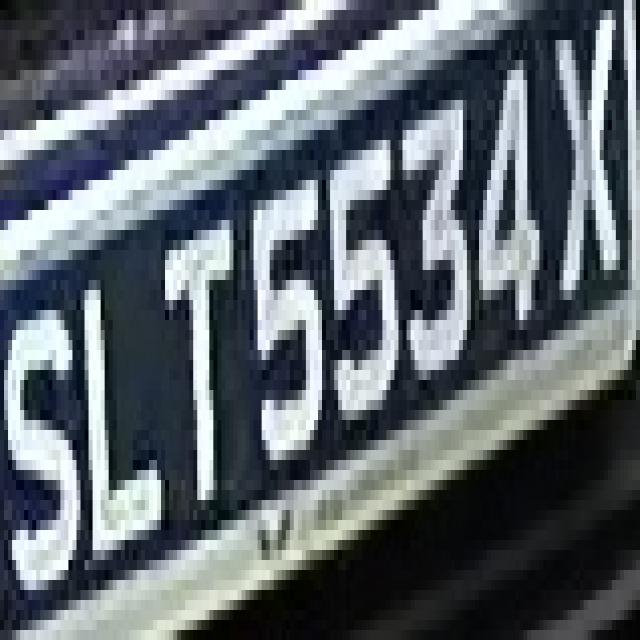3: (386, 80, 483, 410)
4: (459, 60, 547, 320)
5: (314, 120, 398, 440), (233, 160, 322, 460)
L: (76, 230, 161, 590)
S: (0, 280, 89, 600)
T: (149, 190, 245, 560)
X: (543, 0, 628, 300)
